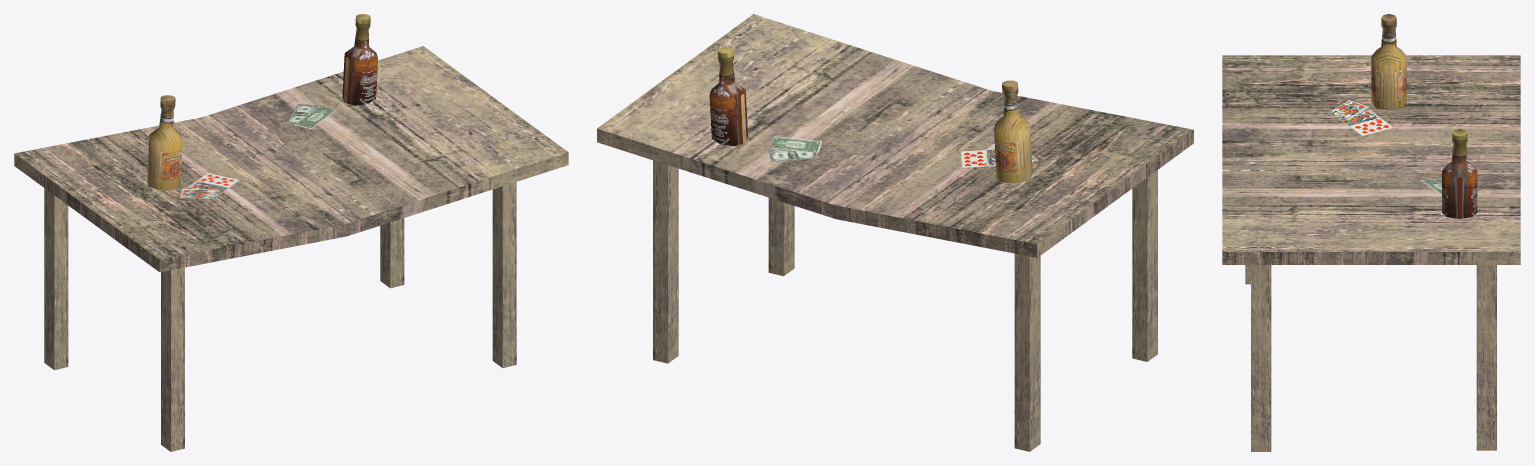
Rendered from cardtable.obj.
The picture shows the model from 3 angles, left to right: view 1: azimuth 30°, elevation 25°; view 2: azimuth 150°, elevation 25°; view 3: azimuth 270°, elevation 25°; orthographic projection. The views are drawn at different scales.
Parts seen in each view (by area): view 1: br_table; view 2: br_table; view 3: br_table.
Boxes of the visible parts, x1,y1,x2,y2 form: br_table: (14,14,568,451); br_table: (597,14,1193,451); br_table: (1222,14,1520,451).
Bounding box in the file's own units: 83.66 × 56.02 × 51.48.
1 material, 1 textured.
